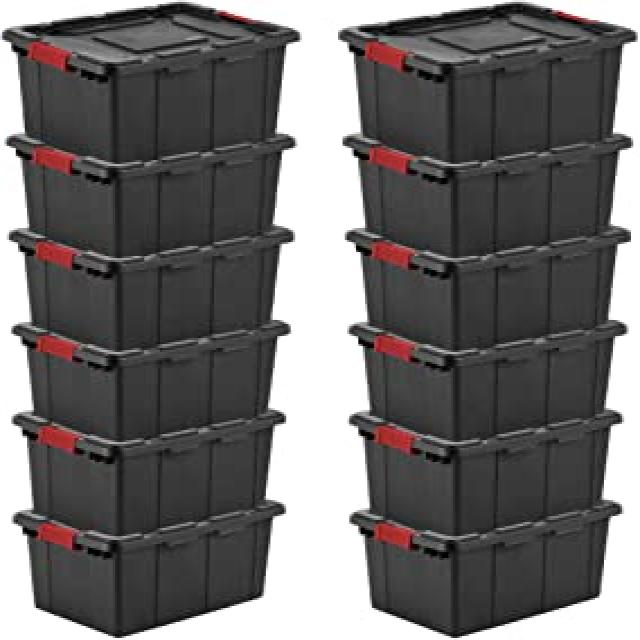basket: (8, 490, 286, 640), (346, 490, 622, 640), (9, 218, 298, 354), (344, 132, 633, 258), (346, 226, 633, 351), (7, 134, 295, 257), (13, 410, 286, 536), (351, 410, 622, 536), (10, 320, 288, 442), (352, 320, 629, 442)
